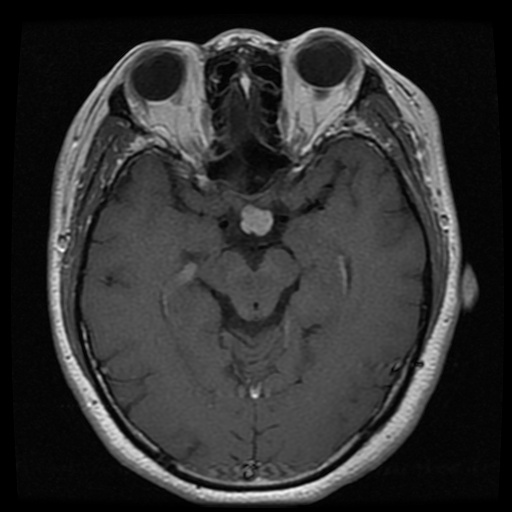pituitary: (239, 203, 274, 236)
